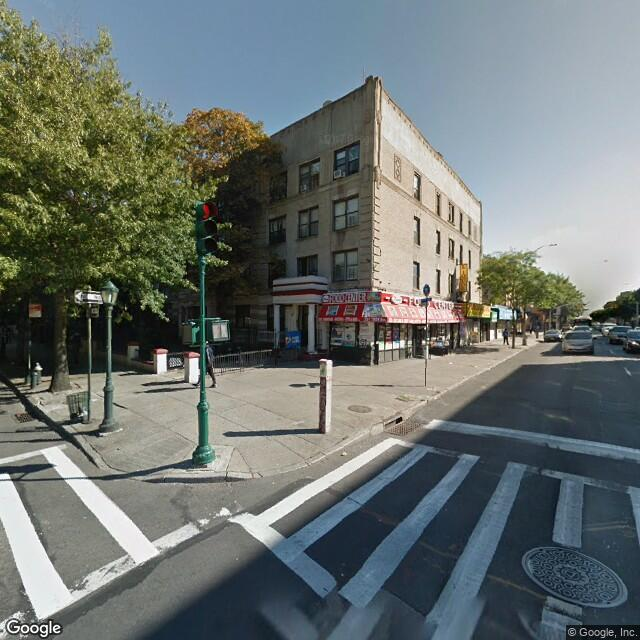litter: (603, 543, 618, 549), (340, 451, 349, 458), (445, 358, 454, 364)
